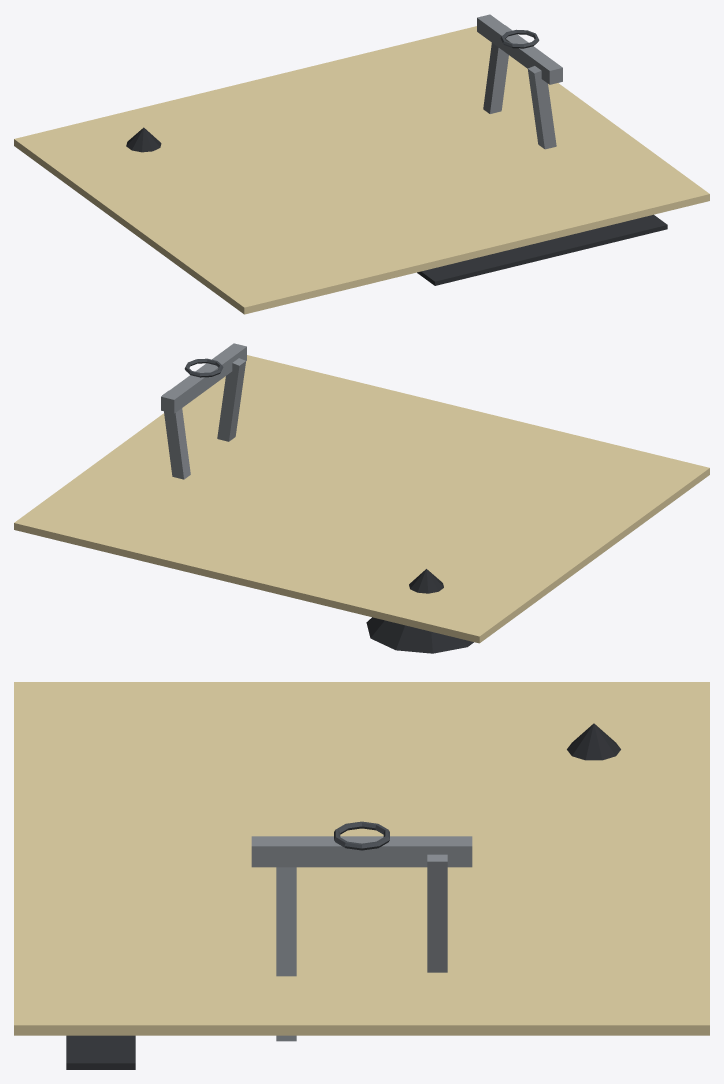
Rendered from landscape.mining-site.glb.
The picture shows the model from 3 angles, top to bottom: view 1: azimuth 30°, elevation 25°; view 2: azimuth 150°, elevation 25°; view 3: azimuth 270°, elevation 25°; orthographic projection. The views are drawn at different scales.
Visible parts, largest first — view 1: landscape.mining-site; view 2: landscape.mining-site; view 3: landscape.mining-site.
Boxes of the visible parts, x1,y1,x2,y2 form: landscape.mining-site: (14,14,709,314); landscape.mining-site: (14,343,709,653); landscape.mining-site: (14,682,709,1069).
Bounding box in the file's own units: 28 × 7.62 × 24.
